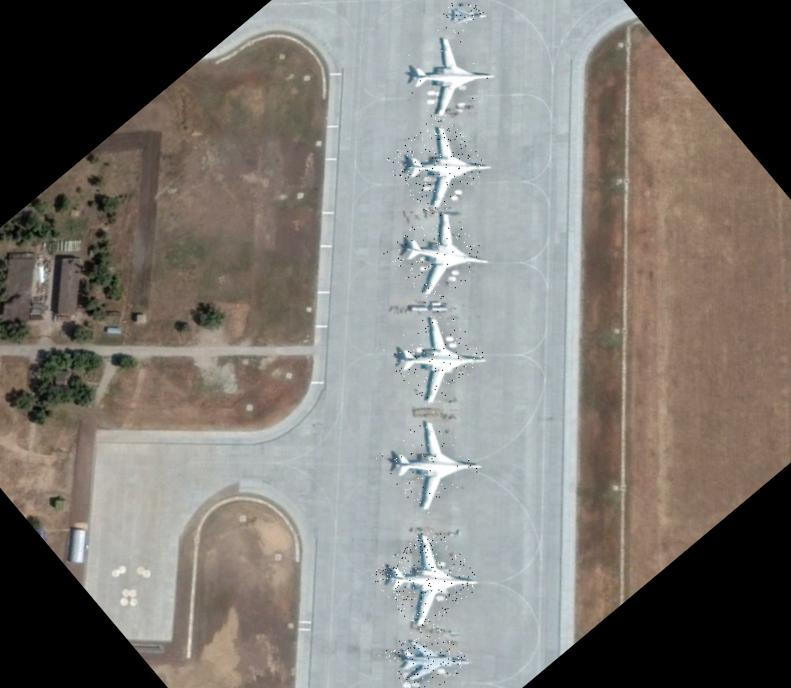A12: (378, 613, 470, 688)
A20: (435, 0, 484, 38), (438, 0, 489, 12)
A6: (368, 522, 484, 636), (389, 18, 498, 128), (381, 110, 490, 219), (374, 408, 483, 517), (382, 201, 490, 310), (380, 302, 488, 410)
